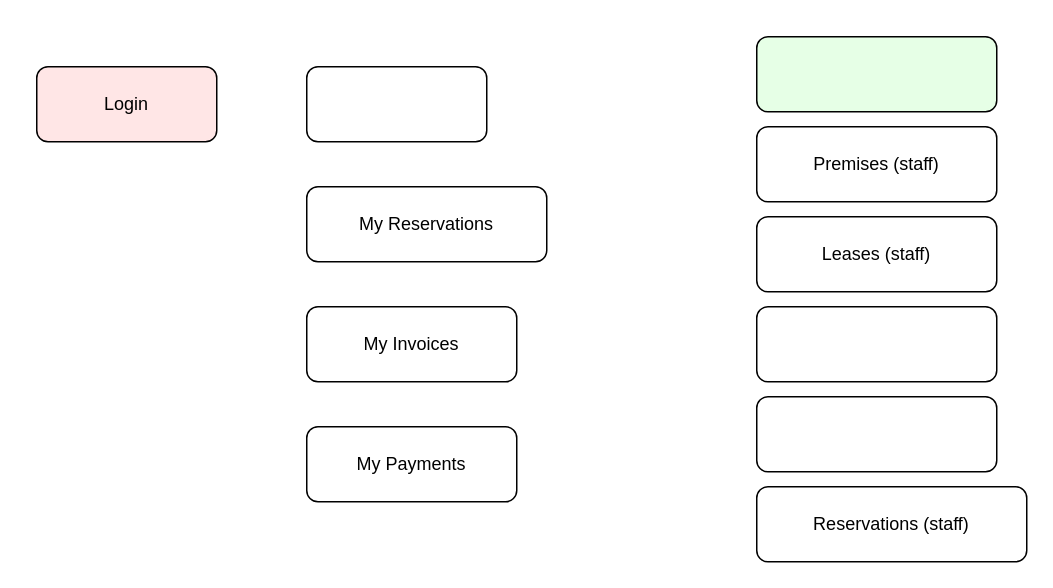
The diagram is 1053 pixels wide and 588 high, and some of its shapes have lost their labels. Here are the shapes that lost their labels. From the top down, the box of each, then its label:
(755, 35, 997, 112): Dashboard (staff)
(305, 65, 487, 142): Catalog
(755, 305, 997, 382): Invoices (staff)
(755, 395, 997, 472): Payments (staff)
